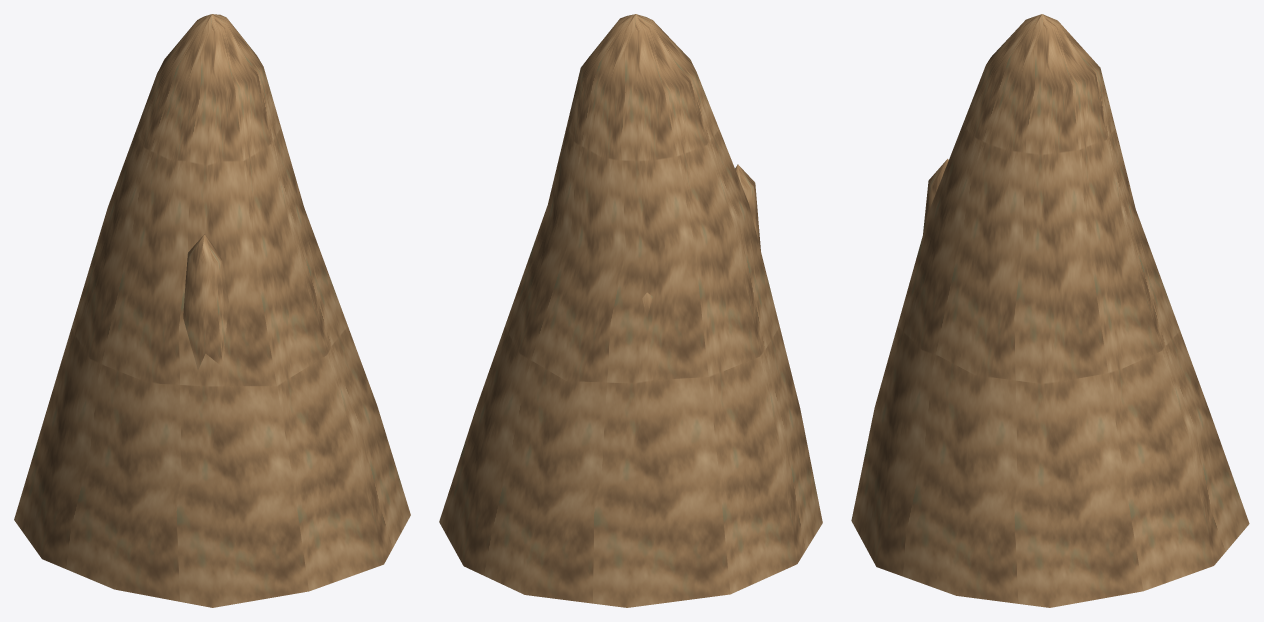
Rendered from Termite_Mound_1.gltf.
3 views of the same model, side by side, from view 1: azimuth 30°, elevation 25°; view 2: azimuth 150°, elevation 25°; view 3: azimuth 270°, elevation 25° (orthographic).
Parts seen in each view (by area): view 1: Termite_Mound_1; view 2: Termite_Mound_1; view 3: Termite_Mound_1.
Boxes of the visible parts, left/top/right/bottom form: Termite_Mound_1: left=14, top=14, right=410, bottom=607; Termite_Mound_1: left=439, top=14, right=822, bottom=607; Termite_Mound_1: left=851, top=14, right=1249, bottom=607.
Size of the model in its own units: 1.8 by 2.58 by 1.83.
1 material, 1 textured.
